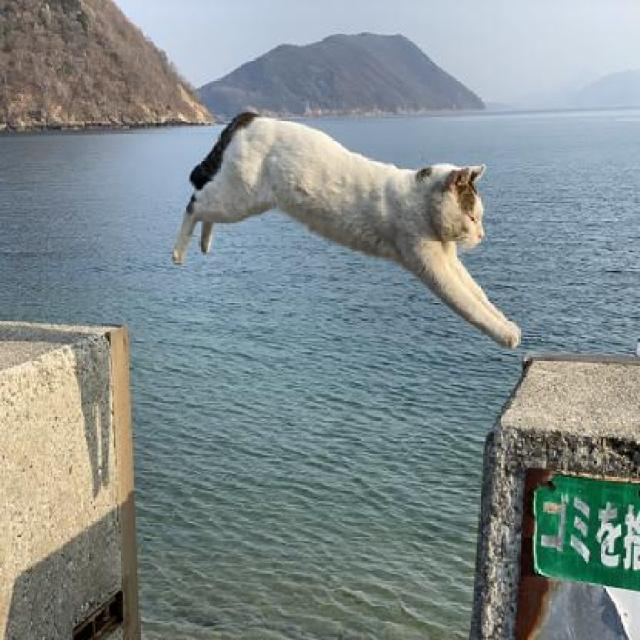cat: (175, 107, 523, 350)
